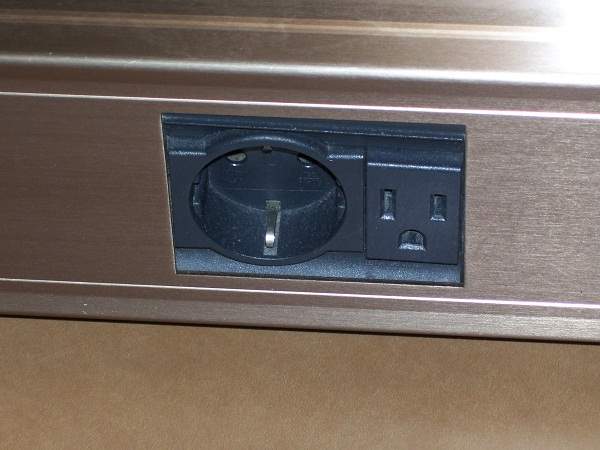outlet: (373, 182, 451, 254)
